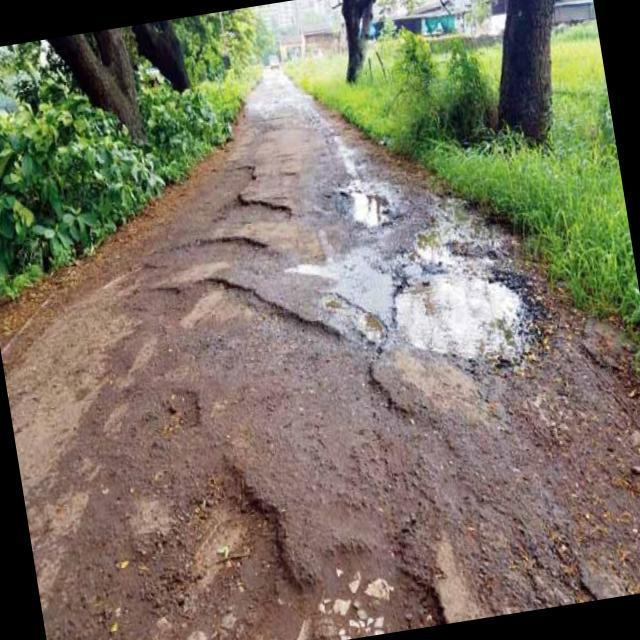Pothole: (378, 230, 544, 387), (164, 451, 299, 621), (310, 530, 446, 640), (185, 268, 315, 373), (174, 152, 292, 235), (160, 225, 278, 270), (335, 166, 399, 240), (148, 374, 204, 437), (144, 274, 184, 314)
